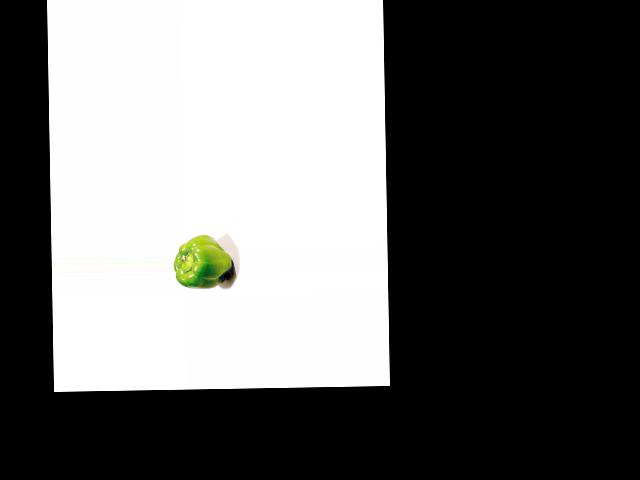bell_pepper: (173, 232, 235, 290)
